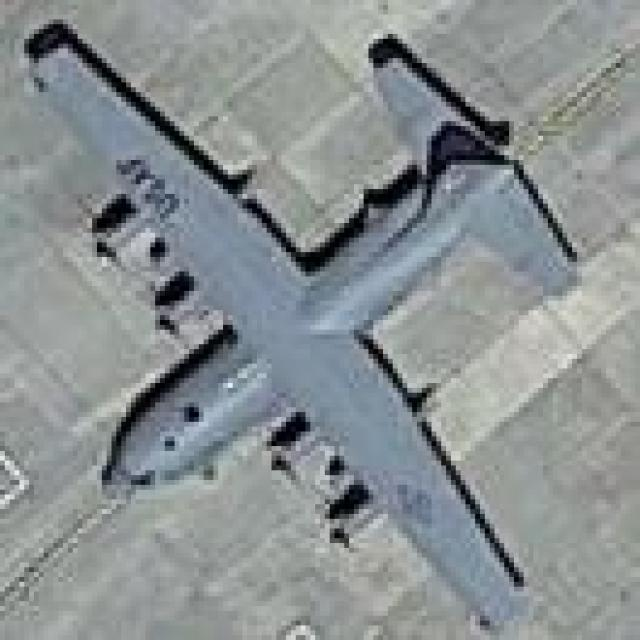C-130_TopDown: (22, 0, 599, 638)
